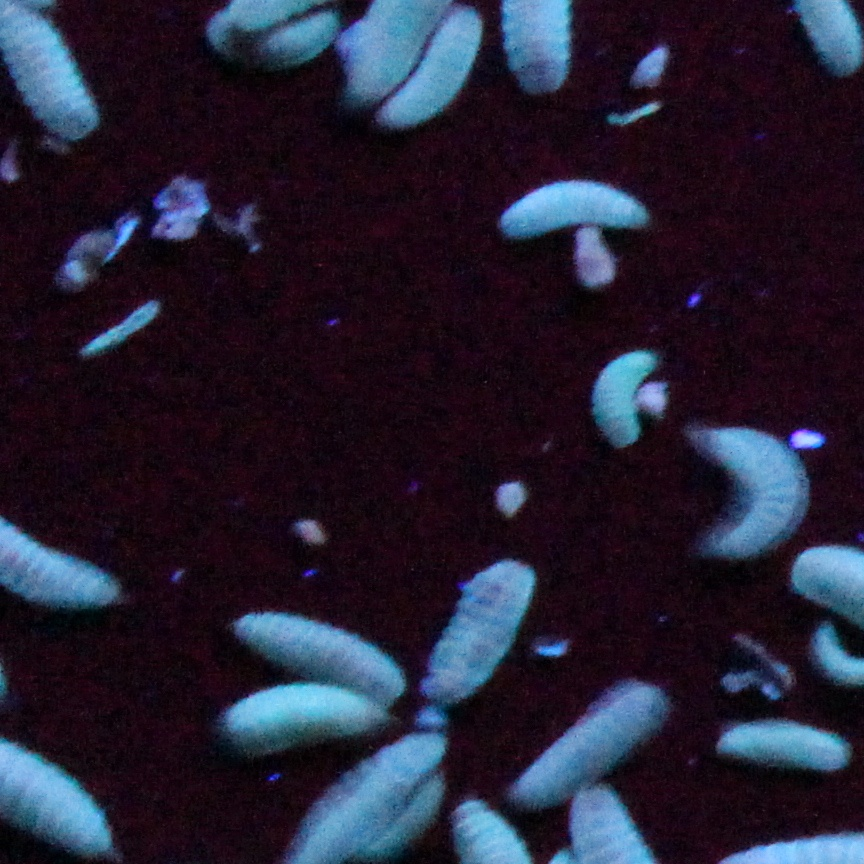larve: (519, 674, 670, 802), (421, 559, 544, 702), (690, 421, 805, 564), (239, 614, 407, 708), (384, 4, 486, 129), (503, 178, 656, 247), (229, 690, 392, 751), (592, 343, 664, 451), (717, 721, 856, 772), (266, 12, 337, 76)
